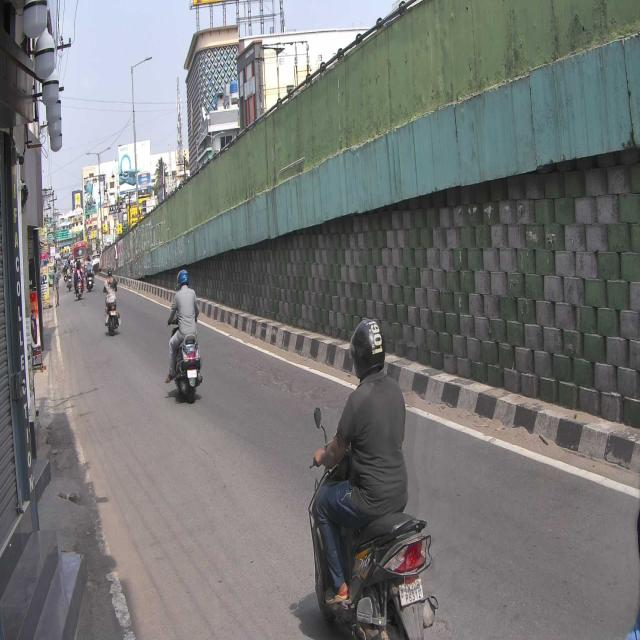single_rider: (306, 313, 438, 640), (165, 268, 204, 404)
